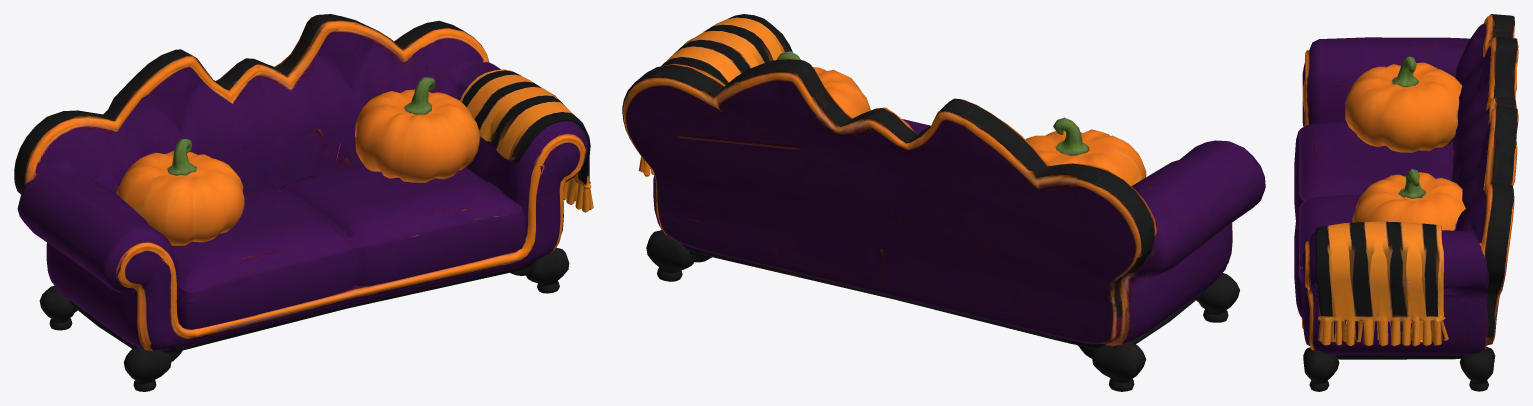
Rendered from halloween_bat_sofa.glb.
3 renders of one model, left to right at view 1: azimuth 30°, elevation 25°; view 2: azimuth 150°, elevation 25°; view 3: azimuth 270°, elevation 25°, orthographic. The views are drawn at different scales.
Visible parts, largest first — view 1: furniture-fit; view 2: furniture-fit; view 3: furniture-fit.
Part boxes in pixels (x1,y1,x2,y2): furniture-fit: (14, 14, 593, 391); furniture-fit: (622, 14, 1265, 391); furniture-fit: (1294, 14, 1518, 391).
Size of the model in its own units: 3.9 by 1.74 by 1.6.
Materials: 1 (1 with a texture image).
